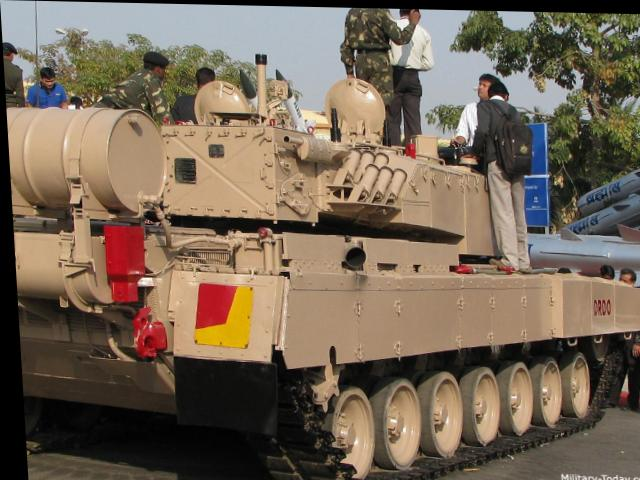other: (465, 65, 548, 274), (336, 8, 398, 130), (385, 10, 434, 156), (166, 50, 238, 131), (106, 43, 177, 120), (1, 28, 32, 125), (26, 57, 67, 120)
tank: (8, 88, 640, 480)
